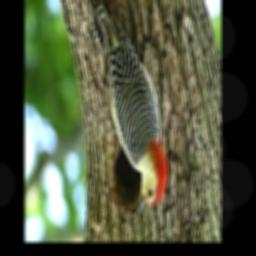Woodpecker: (84, 0, 168, 216)
